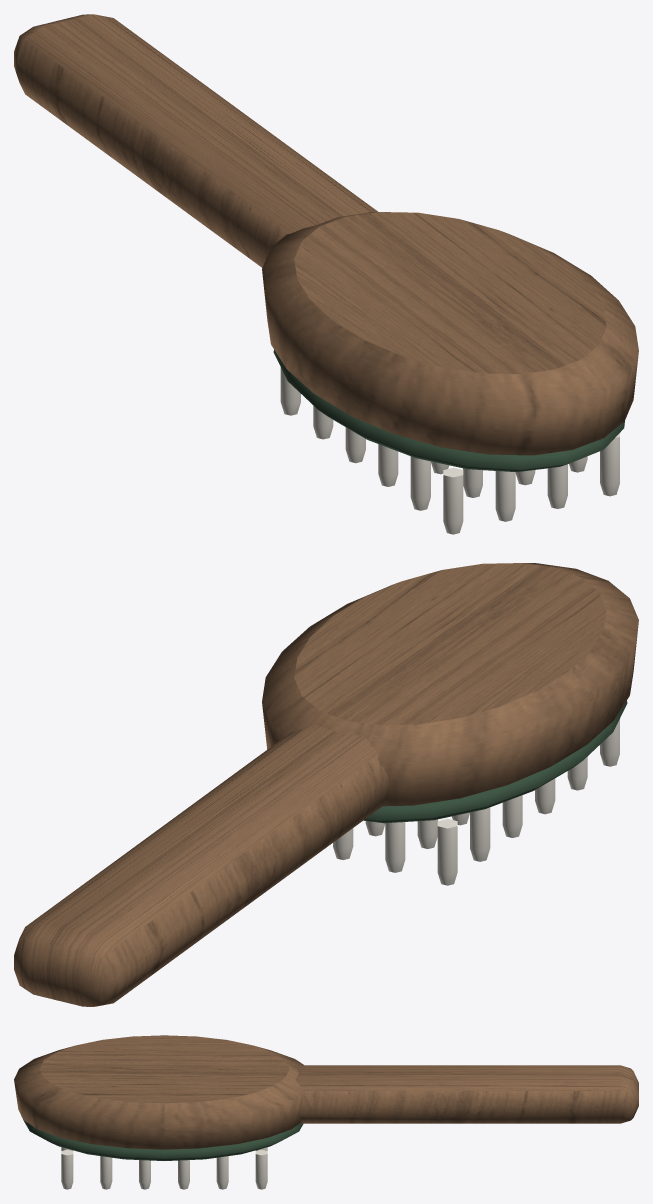
File: GroomingBrush.fbx
3 renders of one model, top to bottom at view 1: azimuth 30°, elevation 25°; view 2: azimuth 150°, elevation 25°; view 3: azimuth 270°, elevation 25°, orthographic. The views are drawn at different scales.
Visible parts, largest first — view 1: GroomingBrush_Mesh; view 2: GroomingBrush_Mesh; view 3: GroomingBrush_Mesh.
Part boxes in pixels (box(x1,y1,x2,y2)): GroomingBrush_Mesh: box(14, 14, 638, 534); GroomingBrush_Mesh: box(14, 563, 638, 1006); GroomingBrush_Mesh: box(14, 1035, 638, 1189).
Bounding box in the file's own units: 0.07 × 0.038 × 0.2253.
Materials: 1 (1 with a texture image).
